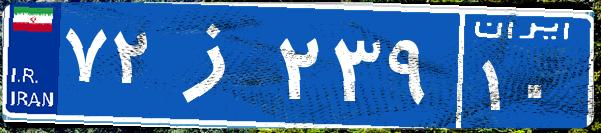0: (525, 38, 570, 115)
1: (475, 38, 525, 113)
2: (273, 28, 330, 110), (110, 28, 158, 105)
3: (330, 28, 385, 110)
7: (57, 26, 110, 107)
9: (385, 28, 445, 110)
ز: (158, 15, 273, 115)
